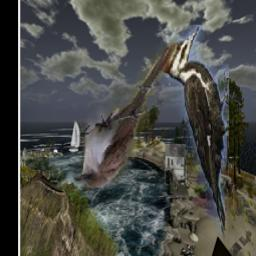Cuckoo: (74, 44, 178, 189)
Woodpecker: (157, 25, 230, 244)
